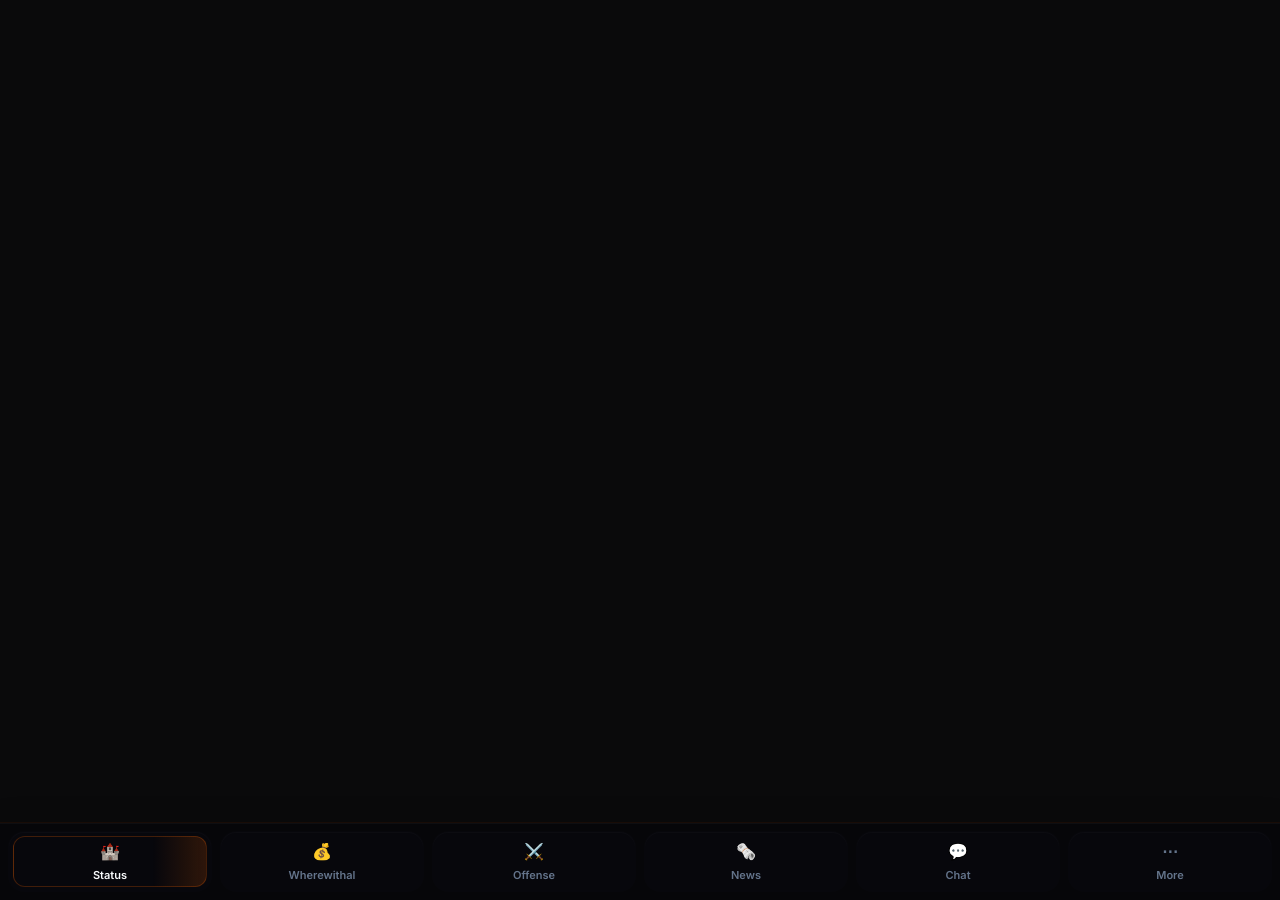
Scenario: BottomNav › admin button › should render admin button when user is admin
Click the button "⋯ More".
click(1170, 862)  # box [1068,831,1272,892]
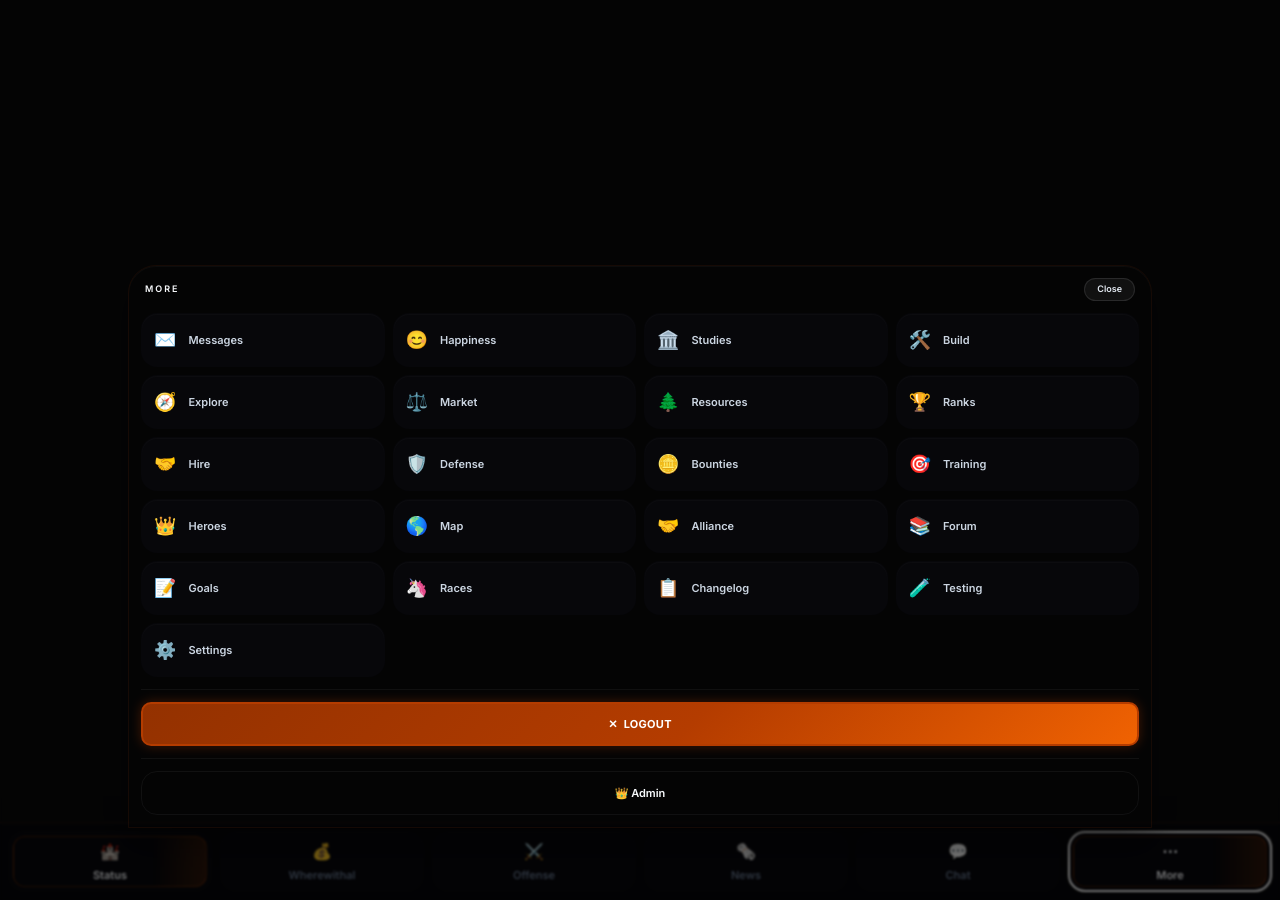
Now the link "👑 Admin" is shown, box [141,771,1139,815]
